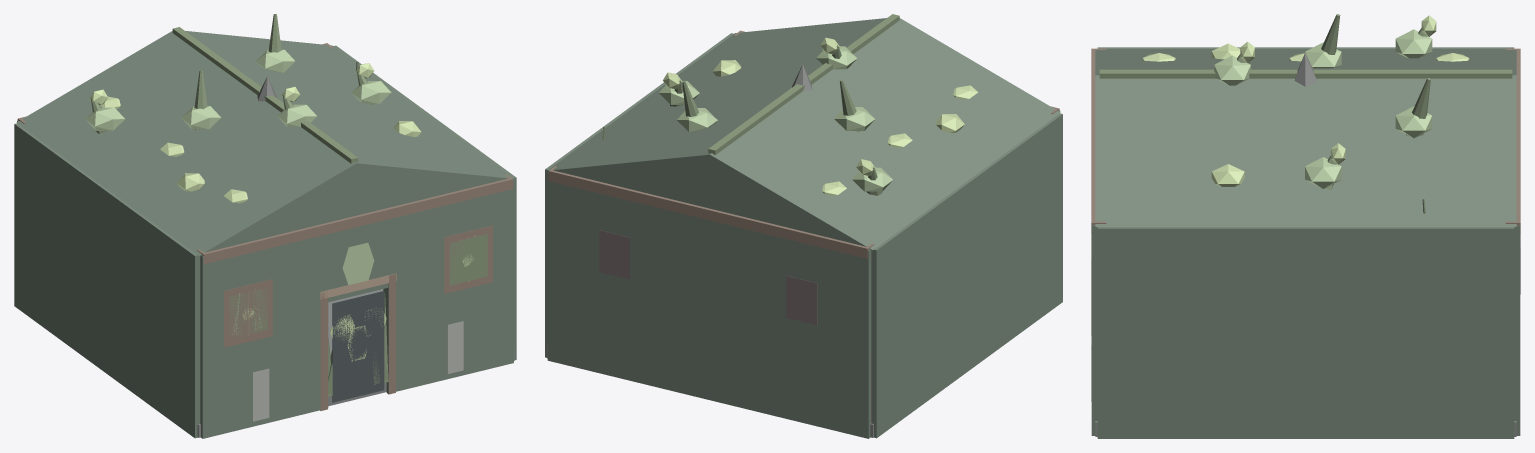
The model's file is mourners_ossuary_infested.glb.
The picture shows the model from 3 angles, left to right: view 1: azimuth 30°, elevation 25°; view 2: azimuth 150°, elevation 25°; view 3: azimuth 270°, elevation 25°; orthographic projection. The views are drawn at different scales.
Visible parts, largest first — view 1: mourners_ossuary_mat_01, mourners_ossuary_mat_02, mourners_ossuary_mat_06, mourners_ossuary_mat_04, mourners_ossuary_mat_08, mourners_ossuary_mat_05, mourners_ossuary_mat_10, mourners_ossuary_mat_00, mourners_ossuary_mat_03; view 2: mourners_ossuary_mat_01, mourners_ossuary_mat_02, mourners_ossuary_mat_06, mourners_ossuary_mat_08, mourners_ossuary_mat_09, mourners_ossuary_mat_05; view 3: mourners_ossuary_mat_01, mourners_ossuary_mat_06, mourners_ossuary_mat_08, mourners_ossuary_mat_05, mourners_ossuary_mat_02, mourners_ossuary_mat_00.
Part boxes in pixels (left/top/right/bottom): mourners_ossuary_mat_01: left=14, top=31, right=516, bottom=438; mourners_ossuary_mat_02: left=17, top=43, right=513, bottom=410; mourners_ossuary_mat_06: left=90, top=14, right=487, bottom=396; mourners_ossuary_mat_04: left=332, top=291, right=384, bottom=402; mourners_ossuary_mat_08: left=85, top=49, right=475, bottom=334; mourners_ossuary_mat_05: left=89, top=63, right=473, bottom=361; mourners_ossuary_mat_10: left=253, top=321, right=463, bottom=421; mourners_ossuary_mat_00: left=197, top=76, right=514, bottom=437; mourners_ossuary_mat_03: left=320, top=273, right=396, bottom=299; mourners_ossuary_mat_01: left=545, top=18, right=1062, bottom=438; mourners_ossuary_mat_02: left=548, top=30, right=1059, bottom=423; mourners_ossuary_mat_06: left=602, top=14, right=899, bottom=195; mourners_ossuary_mat_08: left=659, top=46, right=892, bottom=191; mourners_ossuary_mat_09: left=599, top=230, right=817, bottom=325; mourners_ossuary_mat_05: left=663, top=37, right=977, bottom=195; mourners_ossuary_mat_01: left=1091, top=47, right=1520, bottom=438; mourners_ossuary_mat_06: left=1099, top=14, right=1512, bottom=213; mourners_ossuary_mat_08: left=1214, top=29, right=1432, bottom=188; mourners_ossuary_mat_05: left=1142, top=15, right=1469, bottom=186; mourners_ossuary_mat_02: left=1091, top=48, right=1520, bottom=335; mourners_ossuary_mat_00: left=1095, top=53, right=1516, bottom=436.
Bounding box in the file's own units: 3.97 × 3.13 × 3.98.
